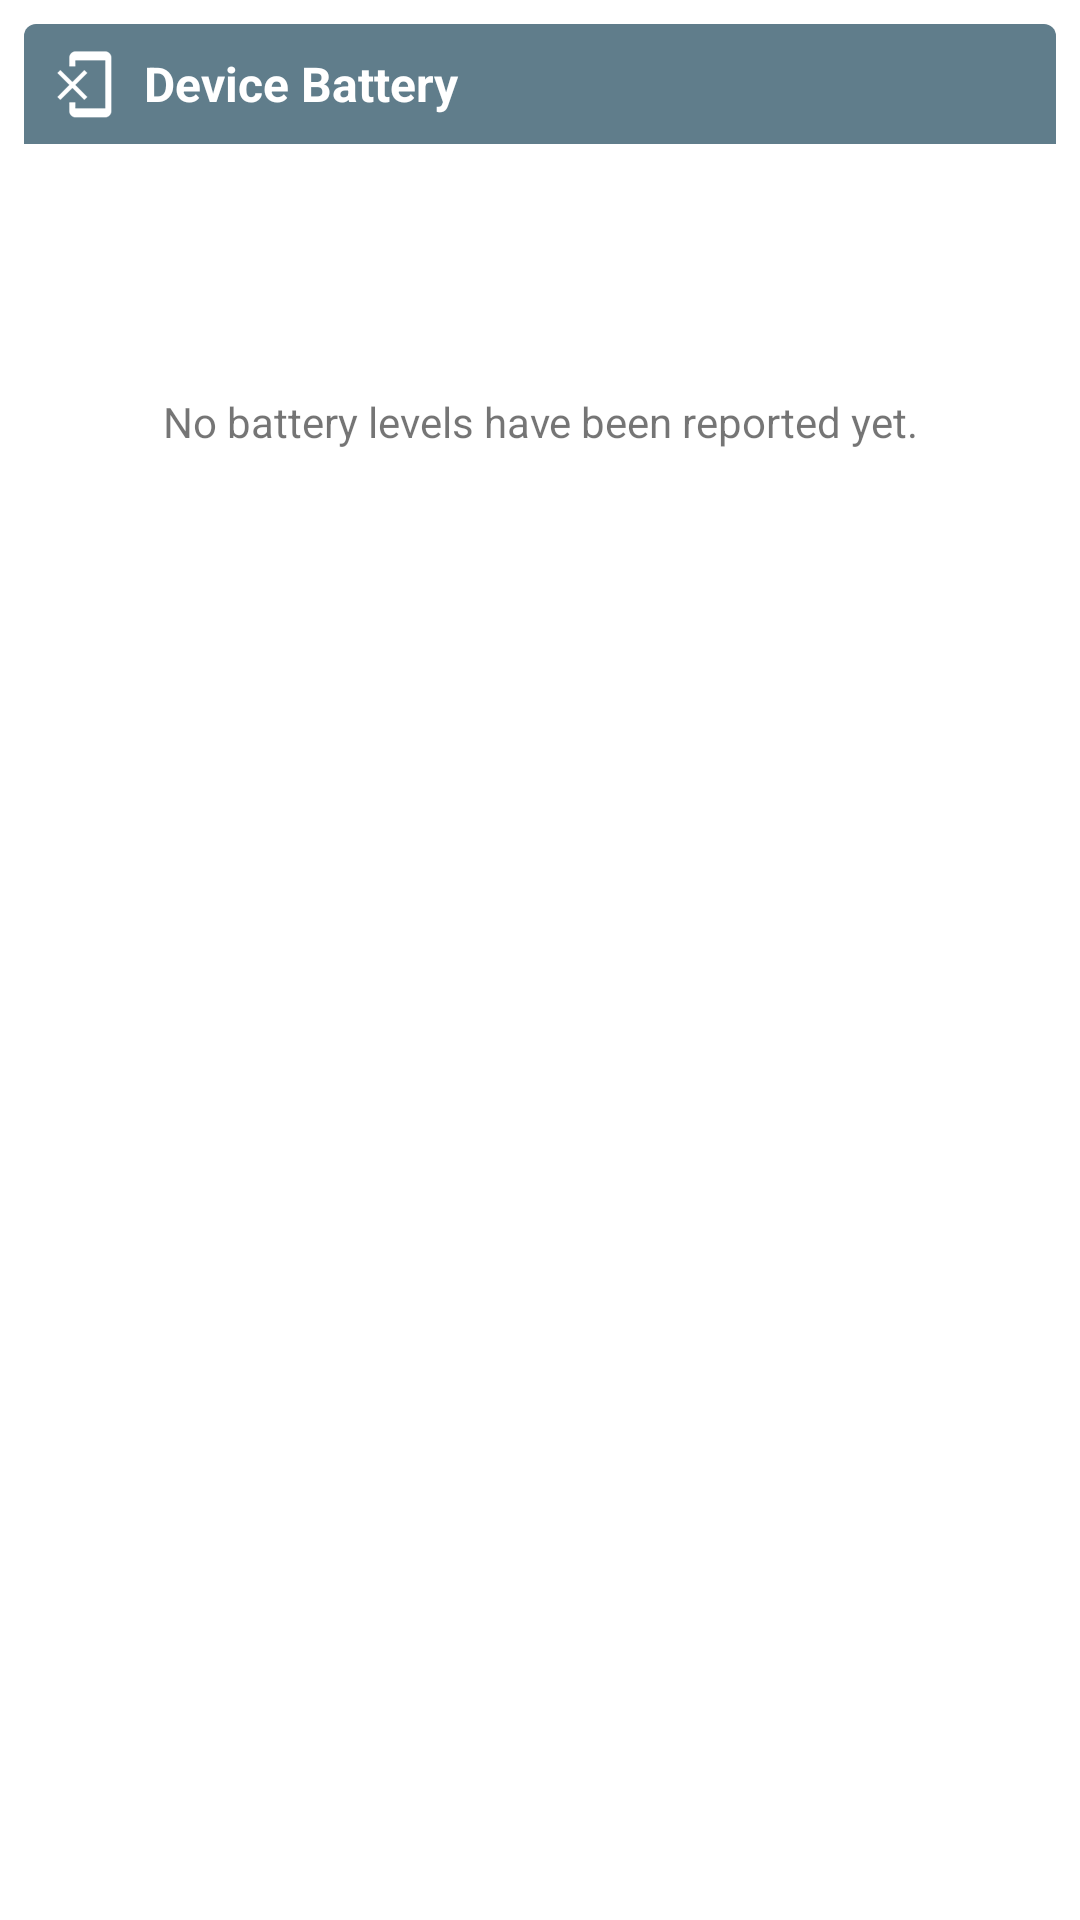

Icon bounding boxes for this 1080 × 1920 phone screenshot, format (x1, y1, x2, y2):
screen state: (57, 51, 112, 118)
